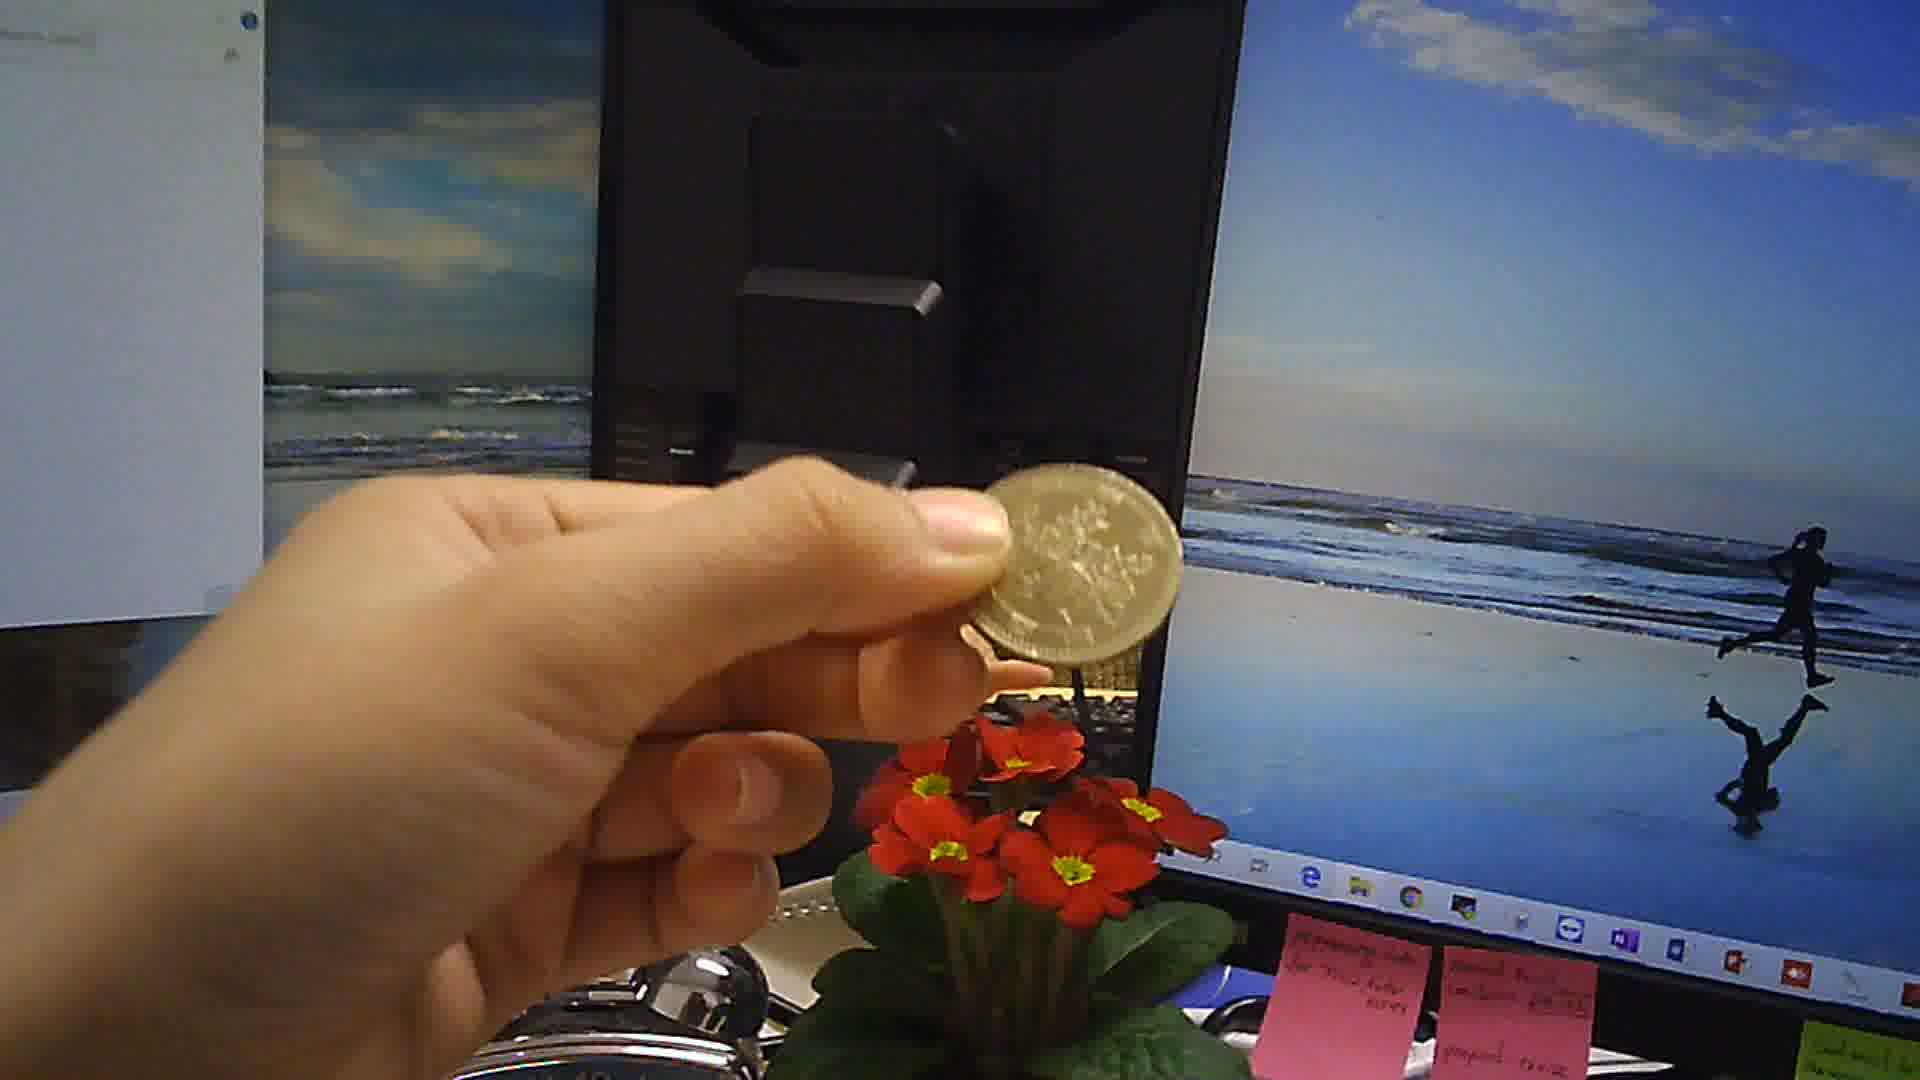500 Yen: (964, 448, 1188, 673)
